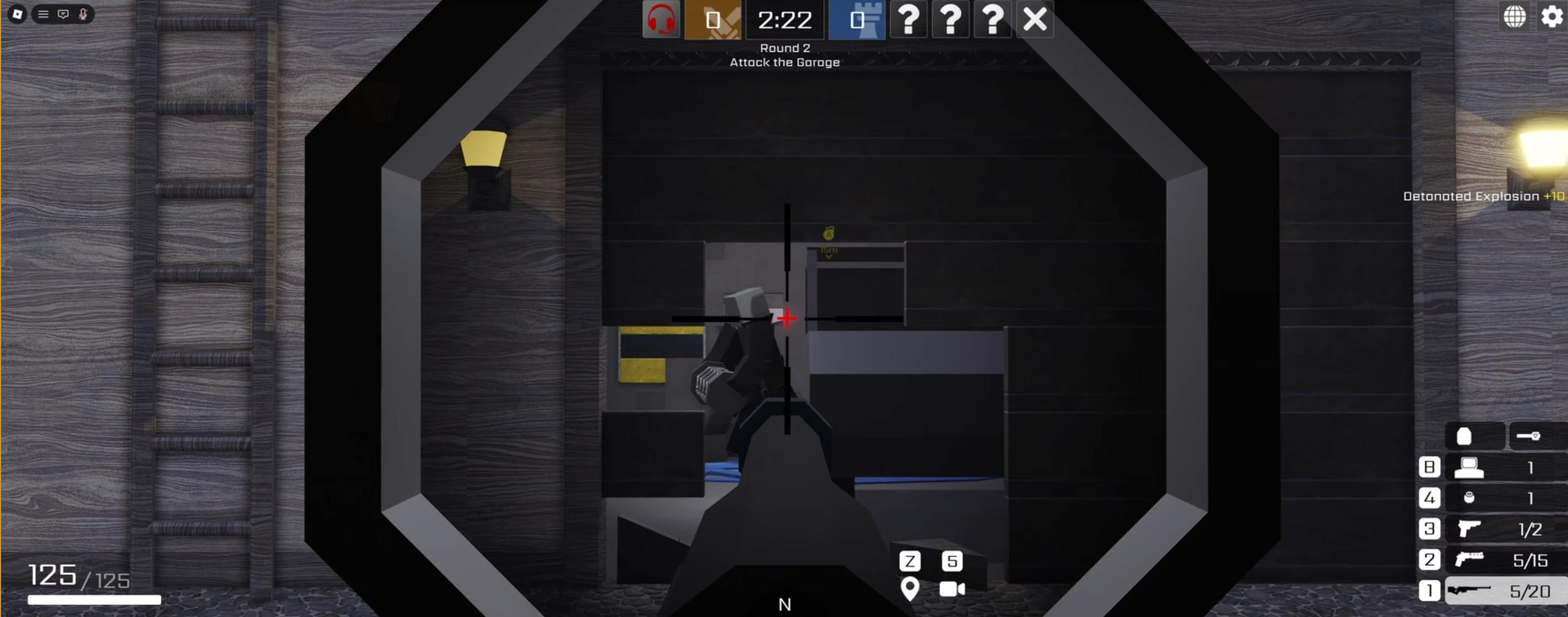enemy: (703, 279, 793, 392)
